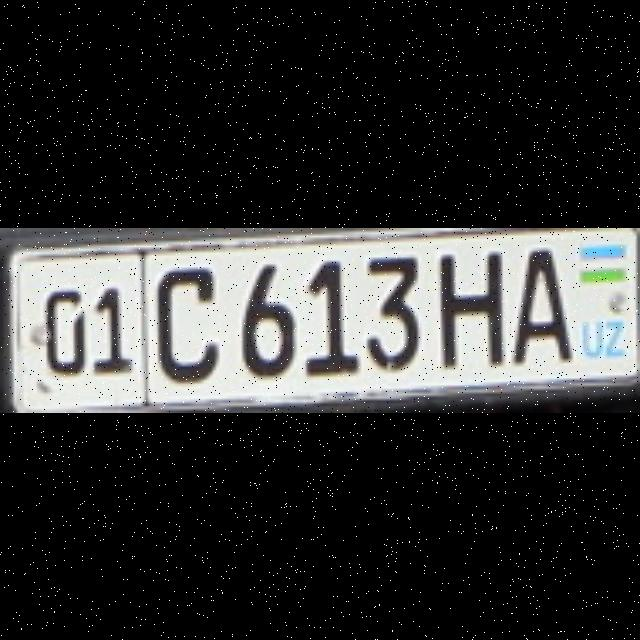0: (40, 284, 84, 368)
1: (302, 258, 353, 372), (90, 284, 128, 368)
3: (364, 254, 414, 366)
6: (238, 260, 290, 372)
A: (512, 244, 570, 358)
C: (156, 264, 212, 378)
H: (438, 246, 498, 362)
